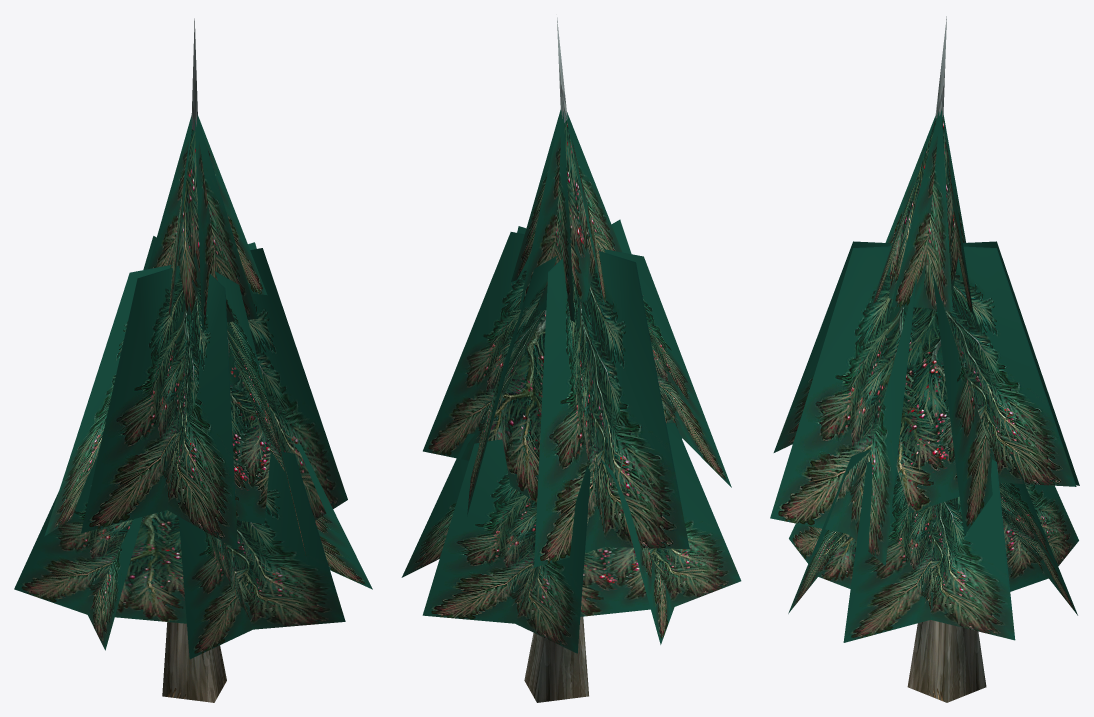
File: silverpinetree03.obj
The picture shows the model from 3 angles, left to right: view 1: azimuth 30°, elevation 25°; view 2: azimuth 150°, elevation 25°; view 3: azimuth 270°, elevation 25°; orthographic projection.
Visible parts, largest first — view 1: SILVERPINETREE031, SILVERPINETREE030; view 2: SILVERPINETREE031, SILVERPINETREE030; view 3: SILVERPINETREE031, SILVERPINETREE030.
Boxes of the visible parts, left/top/right/bottom form: SILVERPINETREE031: left=14, top=115, right=372, bottom=659; SILVERPINETREE030: left=162, top=18, right=226, bottom=702; SILVERPINETREE031: left=401, top=109, right=741, bottom=653; SILVERPINETREE030: left=524, top=17, right=588, bottom=702; SILVERPINETREE031: left=770, top=109, right=1079, bottom=642; SILVERPINETREE030: left=907, top=16, right=986, bottom=702.
Bounding box in the file's own units: 11.11 × 26.42 × 11.02.
2 materials, 2 textured.
